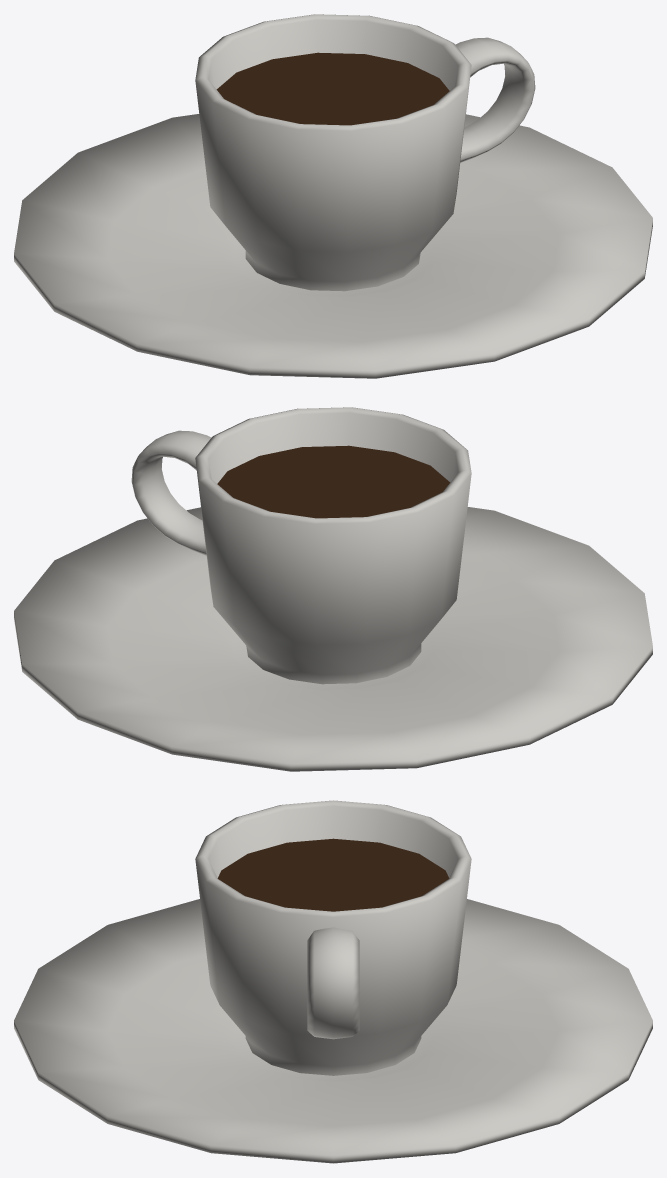
Rendered from Coffee.fbx.
3 renders of one model, top to bottom at view 1: azimuth 30°, elevation 25°; view 2: azimuth 150°, elevation 25°; view 3: azimuth 270°, elevation 25°, orthographic.
Parts seen in each view (by area): view 1: Coffee; view 2: Coffee; view 3: Coffee.
Part boxes in pixels (x1,y1,x2,y2): Coffee: (14, 14, 652, 378); Coffee: (14, 407, 652, 771); Coffee: (14, 800, 652, 1163).
Size of the model in its own units: 53.94 by 18.62 by 53.94.
